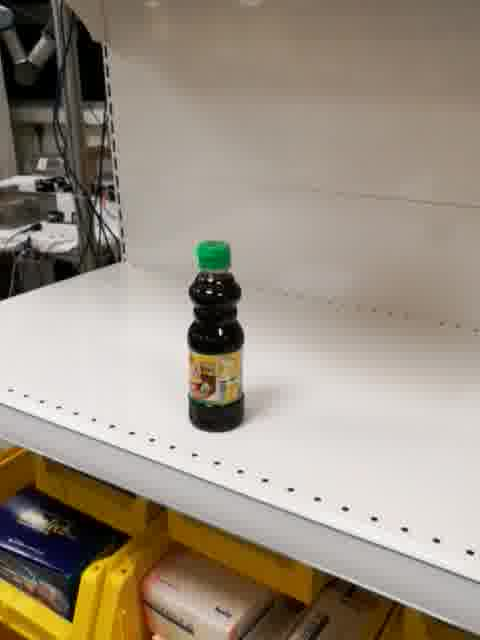cookingoil: (186, 238, 247, 434)
